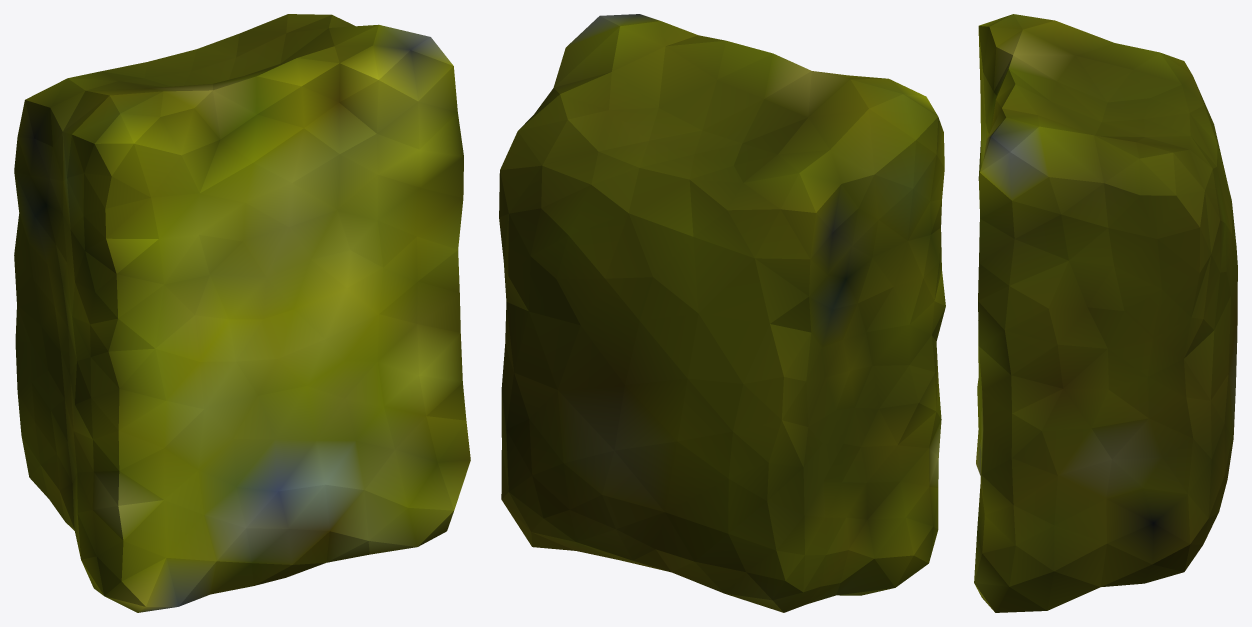
The model's file is post-box.dae.
3 views of the same model, side by side, from view 1: azimuth 30°, elevation 25°; view 2: azimuth 150°, elevation 25°; view 3: azimuth 270°, elevation 25° (orthographic). The views are drawn at different scales.
Parts seen in each view (by area): view 1: node; view 2: node; view 3: node.
Boxes of the visible parts, box(x1,y1,x2,y2) form: node: box(14, 14, 470, 612); node: box(499, 14, 945, 612); node: box(974, 14, 1237, 612).
Bounding box in the file's own units: 0.3252 × 0.4275 × 0.2117.
